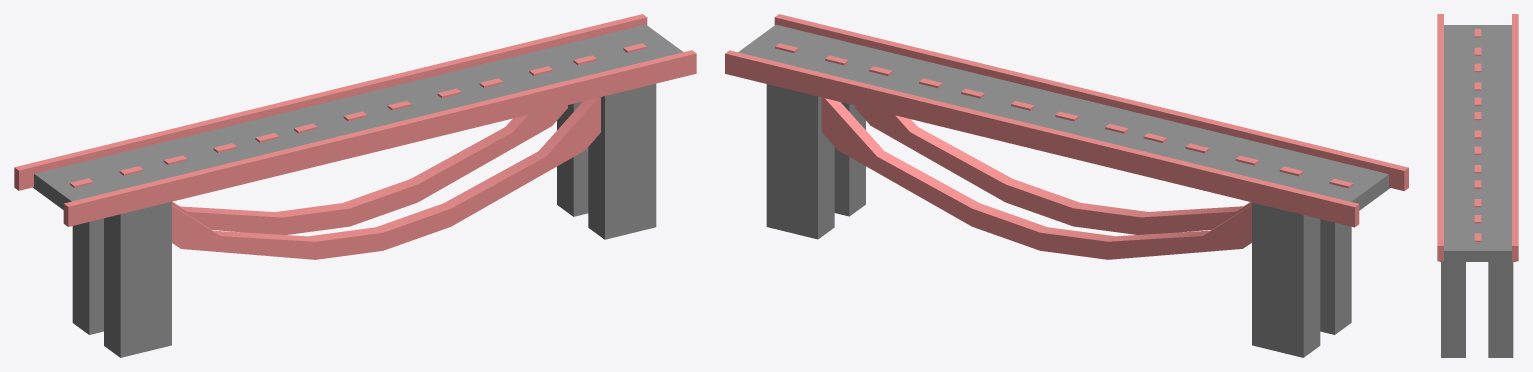
File: Bridge01.FBX
The picture shows the model from 3 angles, left to right: view 1: azimuth 30°, elevation 25°; view 2: azimuth 150°, elevation 25°; view 3: azimuth 270°, elevation 25°; orthographic projection. The views are drawn at different scales.
Parts seen in each view (by area): view 1: Level03-1; view 2: Level03-1; view 3: Level03-1.
Boxes of the visible parts, x1,y1,x2,y2 form: Level03-1: [14, 14, 696, 357]; Level03-1: [725, 14, 1408, 357]; Level03-1: [1437, 14, 1518, 357].
Bounding box in the file's own units: 161 × 40.8 × 23.97.
